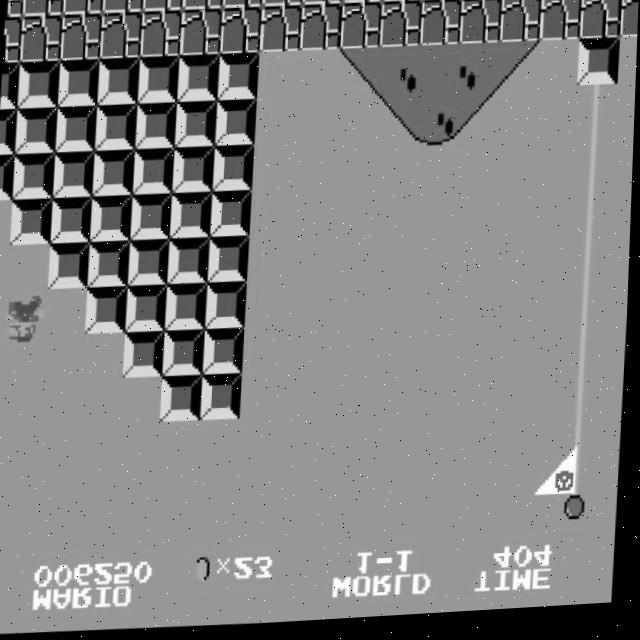11- little_mario: (1, 294, 47, 346)
17- undestructible_block: (299, 6, 343, 55), (339, 5, 383, 54), (379, 4, 423, 53), (419, 2, 463, 51), (459, 2, 503, 51), (499, 0, 543, 49), (539, 0, 583, 48), (20, 14, 63, 63), (60, 13, 103, 62), (100, 12, 143, 61), (140, 10, 183, 59), (180, 10, 223, 59), (220, 8, 263, 57), (260, 7, 303, 56), (579, 0, 622, 47), (3, 16, 22, 63), (620, 0, 639, 45), (21, 0, 63, 17), (61, 0, 103, 16), (101, 0, 143, 15), (141, 0, 183, 13), (181, 0, 223, 13), (221, 0, 263, 12), (261, 0, 303, 11), (301, 0, 343, 9), (342, 0, 384, 8), (5, 0, 22, 17), (382, 0, 423, 7), (422, 0, 463, 6), (462, 0, 503, 5), (502, 0, 543, 4), (542, 0, 583, 2), (582, 0, 623, 1)
7- goal_pole: (566, 273, 610, 322), (562, 365, 606, 413), (556, 501, 599, 550), (558, 456, 601, 505), (564, 318, 607, 367), (571, 181, 614, 230), (575, 90, 618, 139), (560, 410, 603, 458), (569, 228, 612, 276), (573, 136, 616, 184)
9- hard_block: (17, 60, 61, 109), (57, 59, 101, 108), (97, 58, 141, 107), (124, 331, 168, 380), (137, 56, 181, 105), (164, 330, 208, 379), (177, 56, 221, 105), (217, 54, 261, 103), (162, 376, 206, 424), (202, 375, 246, 423), (204, 329, 248, 377), (11, 197, 54, 246), (15, 106, 58, 155), (51, 196, 94, 245), (55, 105, 98, 154), (87, 287, 130, 336), (91, 195, 134, 244), (95, 103, 138, 152), (127, 285, 170, 334), (131, 194, 174, 243), (135, 102, 178, 151), (167, 284, 210, 333), (171, 193, 214, 242), (175, 101, 218, 150), (207, 283, 250, 332), (211, 191, 254, 240), (215, 100, 258, 149), (577, 44, 620, 93), (13, 152, 56, 200), (49, 243, 92, 291), (53, 151, 96, 199), (93, 150, 136, 198), (129, 240, 172, 288), (133, 149, 176, 197), (169, 239, 212, 287), (173, 148, 216, 196), (209, 238, 252, 286), (213, 146, 256, 194), (89, 242, 132, 289), (0, 62, 20, 109), (0, 109, 17, 154), (0, 155, 15, 200)
